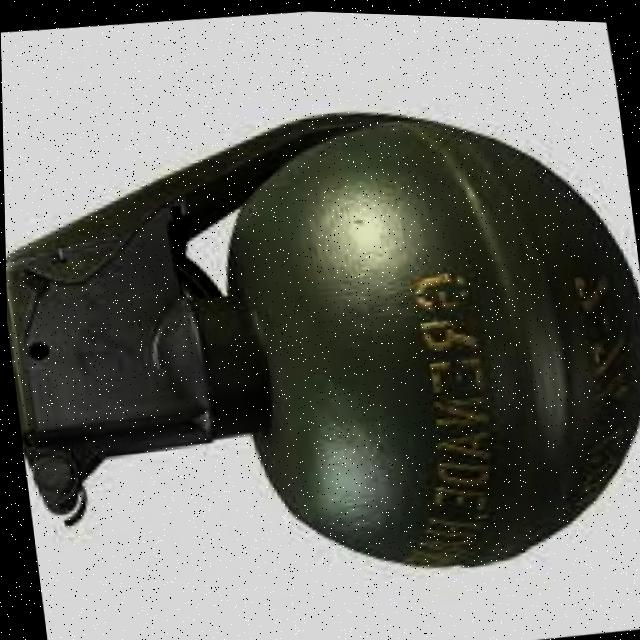grenade: (1, 58, 640, 623)
